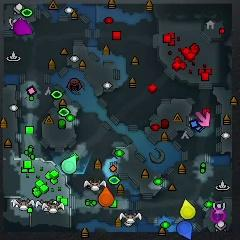Other: (211, 208, 226, 224)
p1: (175, 220, 194, 240)
p2: (61, 155, 77, 174)
p3: (15, 18, 33, 36)
p4: (179, 198, 196, 219)
p5: (97, 186, 115, 207)
x1: (196, 110, 211, 129)
